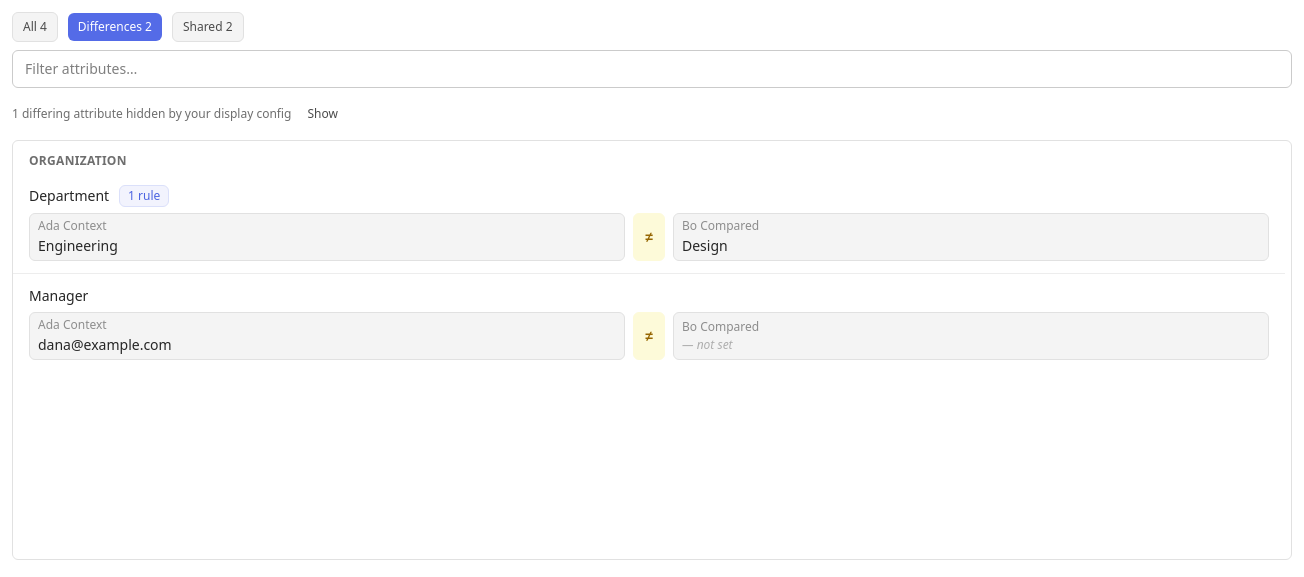
Test: ComparisonAttributesTab › reveals a hidden row into its own category, and counts it once revealed
Expected: the text "Employee number" is not shown
Expected: the button "Differences 2" is shown, [68, 13, 162, 41]
Click the button named "Show" at [323, 114], box [296, 96, 350, 132]
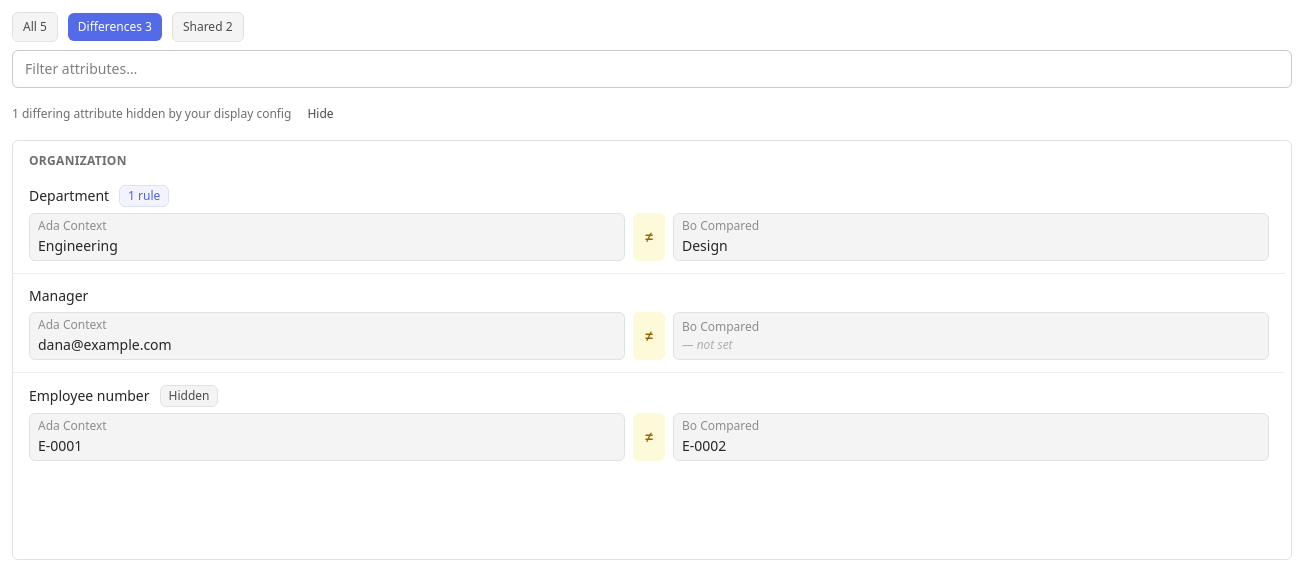
Expected: the text "Employee number" is shown, [29, 386, 150, 406]
Expected: the text titled "display configuration hides this attribute" is shown, [160, 385, 218, 407]
Expected: the button "Differences 3" is shown, [68, 13, 162, 41]
Click the button named "Hide" at [321, 114], box [296, 96, 346, 132]
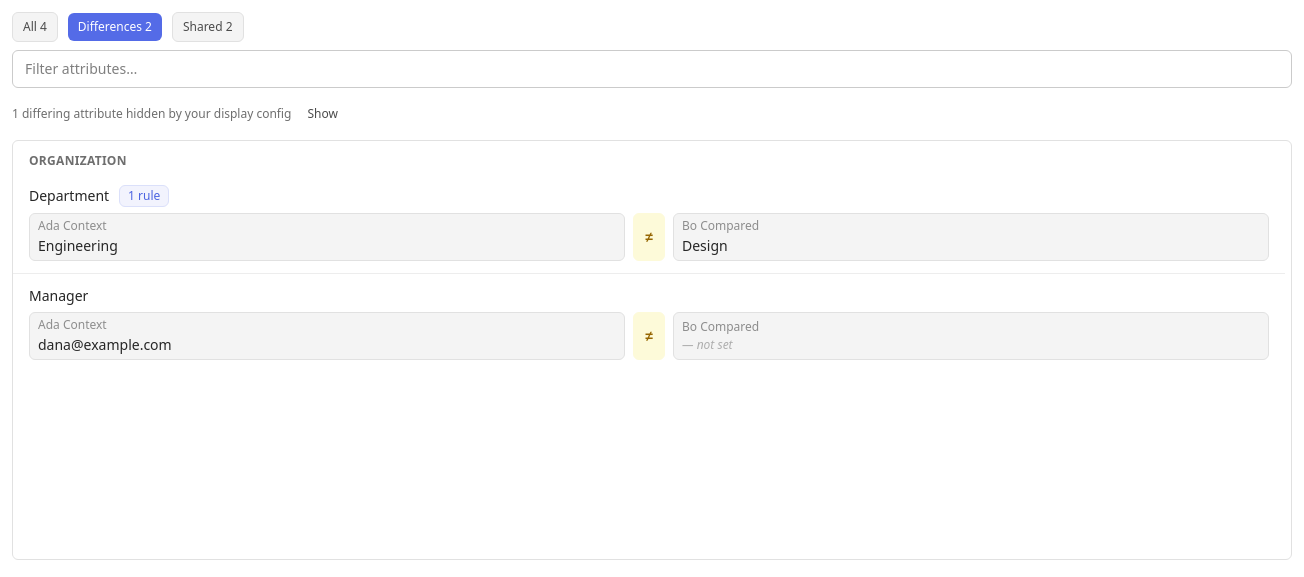
Expected: the text "Employee number" is gone
